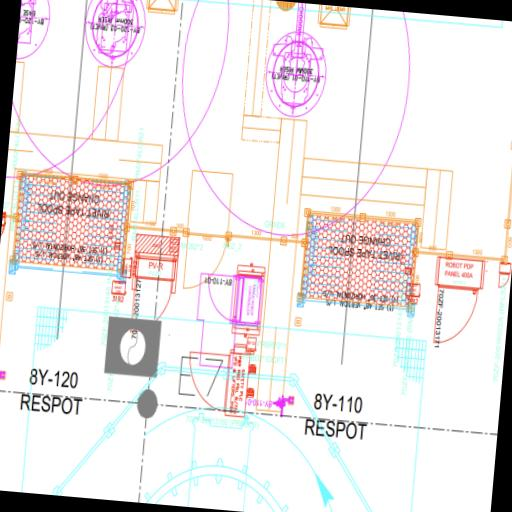robot: (260, 2, 334, 124)
